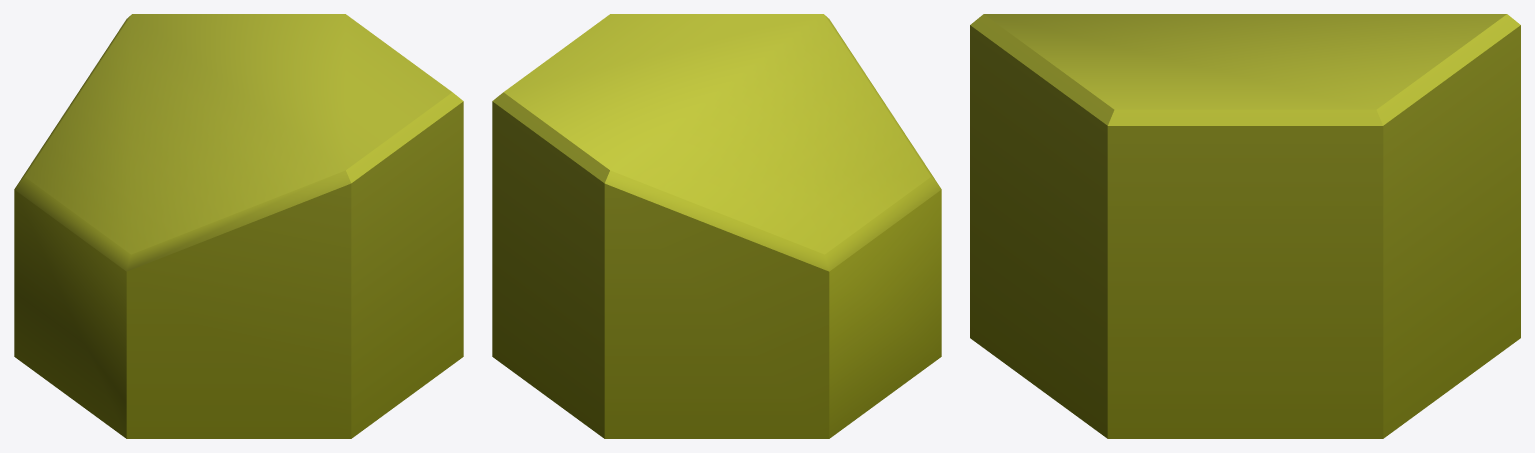
The model's file is hex_grass_sloped_low.glb.
3 views of the same model, side by side, from view 1: azimuth 30°, elevation 25°; view 2: azimuth 150°, elevation 25°; view 3: azimuth 270°, elevation 25° (orthographic). The views are drawn at different scales.
Parts seen in each view (by area): view 1: hex_grass_sloped_low; view 2: hex_grass_sloped_low; view 3: hex_grass_sloped_low.
Part boxes in pixels (x1,y1,x2,y2): hex_grass_sloped_low: (14,14,463,438); hex_grass_sloped_low: (492,14,941,438); hex_grass_sloped_low: (970,14,1520,438).
Bounding box in the file's own units: 9.6 × 7.2 × 11.09.
Materials: 1 (1 with a texture image).
